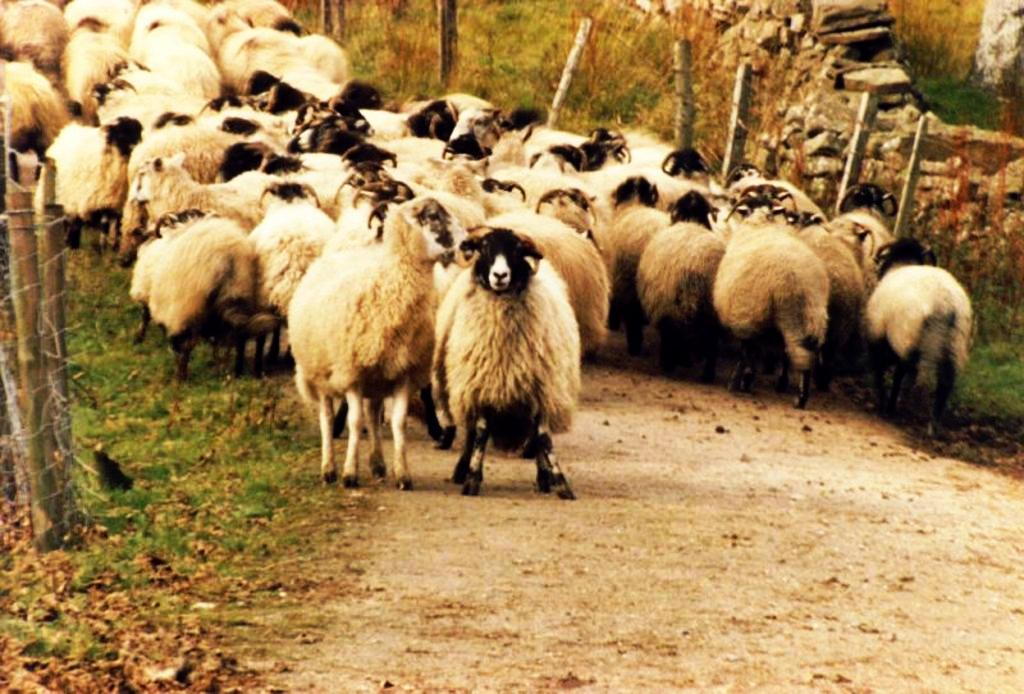Sheep: (296, 190, 478, 489), (432, 217, 589, 500), (712, 191, 828, 405), (146, 206, 276, 387), (852, 226, 975, 414), (635, 184, 733, 380), (37, 93, 140, 244), (600, 169, 676, 353), (839, 173, 904, 314), (496, 139, 593, 213), (580, 135, 664, 211)
